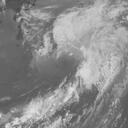cyclone: (34, 11, 121, 85)
